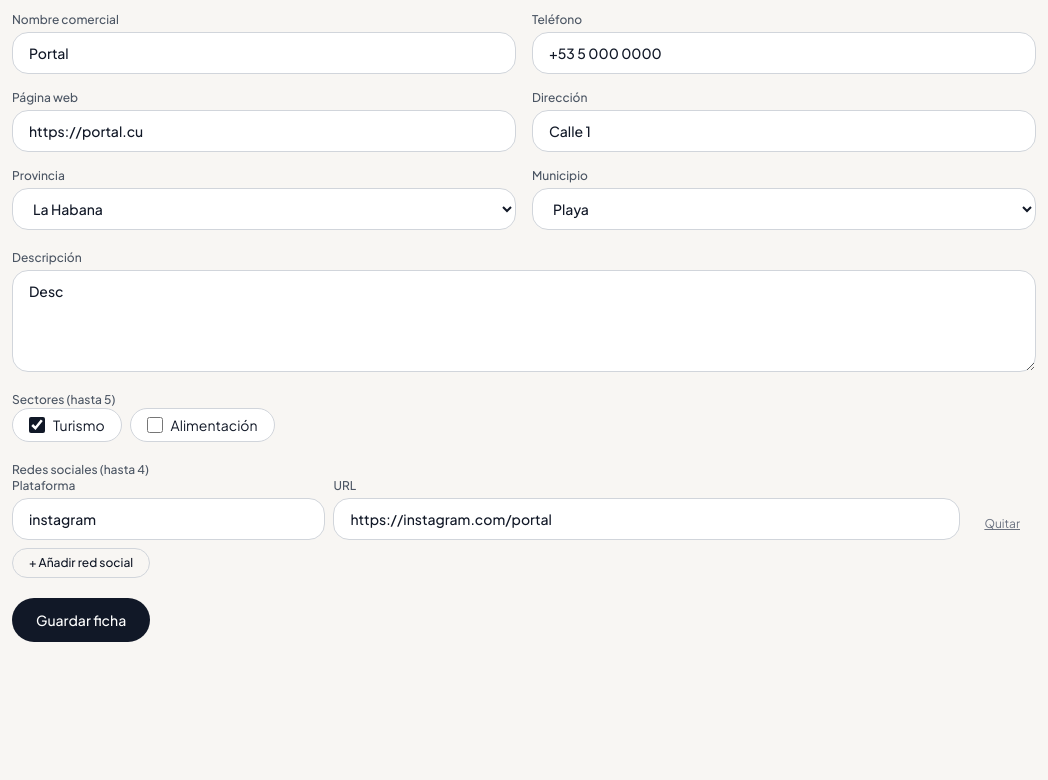
Test: ProfileForm (6.2) › shows the action error message
Click the button "Guardar ficha": [81, 620] box [12,598,150,642]
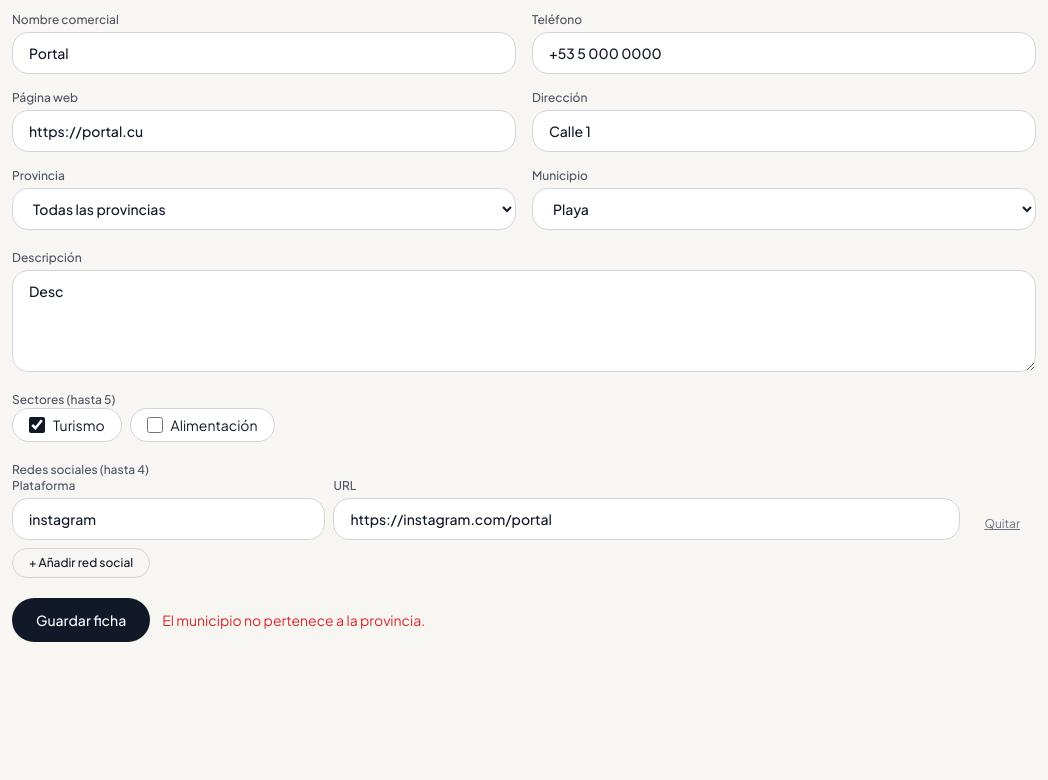
Result: the message reads "El municipio no pertenece a la provincia." at [162,611,425,629]
